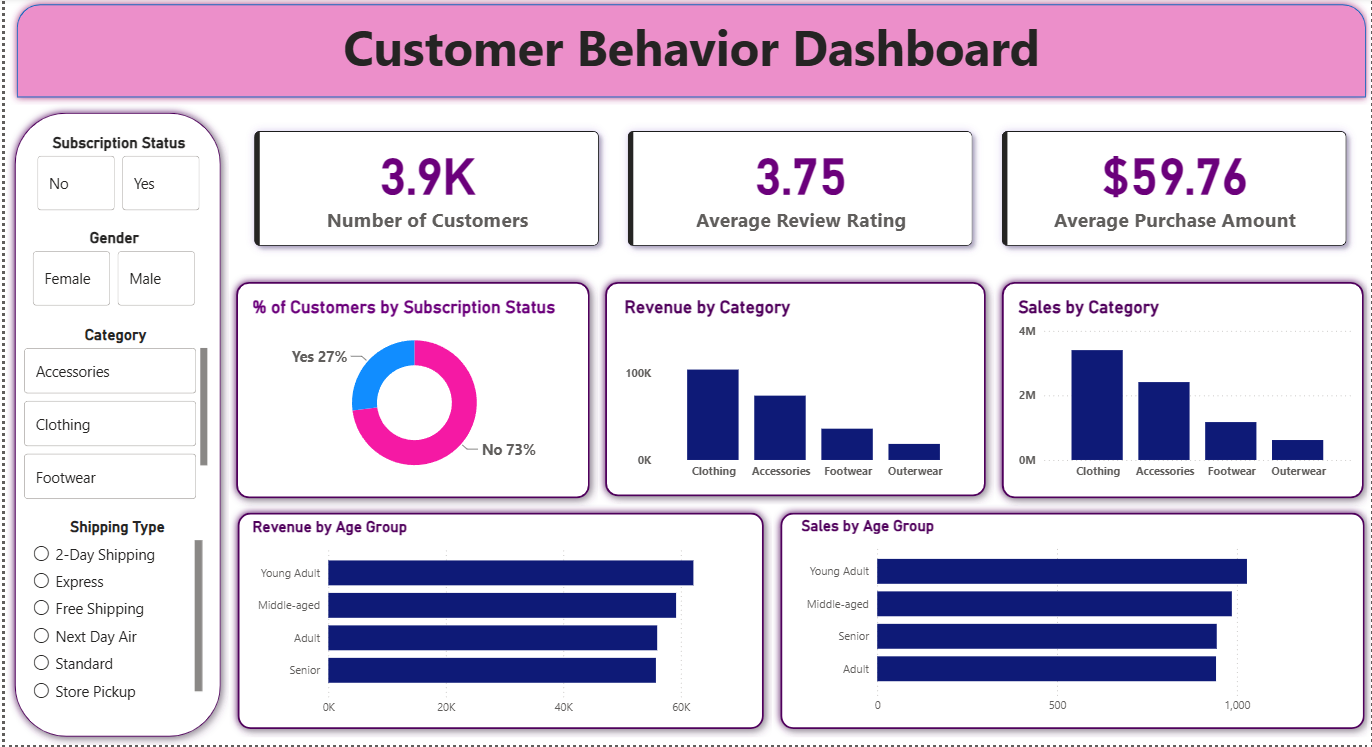

This screenshot's page, from the dashboard's own definition file:
{"tool":"powerbi","page":{"name":"Page 1","canvas":[1500,820],"ordinal":0},"visuals":[{"type":"cardVisual","fields":{"Data":["customer.Number of Customers","customer.Average Review Rating","customer.Average Purchase Amount"]},"box":[244,118.6,1256.4,184.7],"z":0},{"type":"shape","box":[4.6,0,1495.8,118.3],"z":1000},{"type":"textbox","box":[4.6,13.9,1495.8,88.1],"z":2000},{"type":"shape","box":[244,303.3,405.9,255.4],"z":3000},{"type":"donutChart","title":"% of Customers by Subscription Status","fields":{"Category":["customer.subscription_status"],"Y":["CountNonNull(customer.customer_id)"]},"box":[266.8,328.4,364.8,209.8],"z":4000},{"type":"shape","box":[1085,303.3,415,255.4],"z":5000},{"type":"shape","box":[649.9,303.3,435.5,253.1],"z":6000},{"type":"clusteredColumnChart","title":"Revenue by Category","fields":{"Y":["Sum(customer.purchase_amount)"],"Category":["customer.category"]},"box":[674.9,328.4,387.6,209.8],"z":7000},{"type":"clusteredColumnChart","title":"Sales by Category","fields":{"Y":["Sum(customer.customer_id)"],"Category":["customer.category"]},"box":[1105.9,328.4,376.2,209.8],"z":8000},{"type":"shape","box":[2.3,118.6,244,702.3],"z":9000},{"type":"advancedSlicerVisual","fields":{"Values":["customer.subscription_status"]},"box":[29.6,150.5,189.3,88.9],"z":10000},{"type":"advancedSlicerVisual","fields":{"Values":["customer.gender"]},"box":[25.1,255.4,189.3,88.9],"z":11000},{"type":"advancedSlicerVisual","fields":{"Values":["customer.category"]},"box":[16,360.3,212.1,196.1],"z":12000},{"type":"listSlicer","title":"Shipping Type","fields":{"Values":["customer.shipping_type"]},"box":[25.1,572.3,196.1,207.5],"z":13000},{"type":"shape","box":[246.3,556.4,595.1,255.4],"z":14000},{"type":"shape","box":[841.4,556.4,659,255.4],"z":15000},{"type":"clusteredBarChart","title":"Revenue by Age Group","fields":{"Y":["Sum(customer.purchase_amount)"],"Category":["customer.age_group"]},"box":[266.8,572.3,554.1,225.7],"z":16000},{"type":"clusteredBarChart","title":"Sales by Age Group","fields":{"Y":["CountNonNull(customer.customer_id)"],"Category":["customer.age_group"]},"box":[868.8,570.1,581.5,225.7],"z":17000}]}

Visuals, with their boxes in screenshot pixels (x1, y1, x2, y2), scaled from the page's 1500x820 canvas onto the 1372x747 screenshot:
cardVisual - customer.Number of Customers x customer.Average Review Rating: locate(223, 108, 1371, 276)
shape: locate(4, 0, 1371, 108)
textbox: locate(4, 13, 1371, 93)
shape: locate(223, 276, 594, 509)
"% of Customers by Subscription Status" donutChart: locate(244, 299, 578, 490)
shape: locate(992, 276, 1371, 509)
shape: locate(594, 276, 993, 507)
"Revenue by Category" clusteredColumnChart: locate(617, 299, 972, 490)
"Sales by Category" clusteredColumnChart: locate(1012, 299, 1356, 490)
shape: locate(2, 108, 225, 746)
advancedSlicerVisual - customer.subscription_status: locate(27, 137, 200, 218)
advancedSlicerVisual - customer.gender: locate(23, 233, 196, 314)
advancedSlicerVisual - customer.category: locate(15, 328, 209, 507)
"Shipping Type" listSlicer: locate(23, 521, 202, 710)
shape: locate(225, 507, 770, 740)
shape: locate(770, 507, 1371, 740)
"Revenue by Age Group" clusteredBarChart: locate(244, 521, 751, 727)
"Sales by Age Group" clusteredBarChart: locate(795, 519, 1327, 725)
